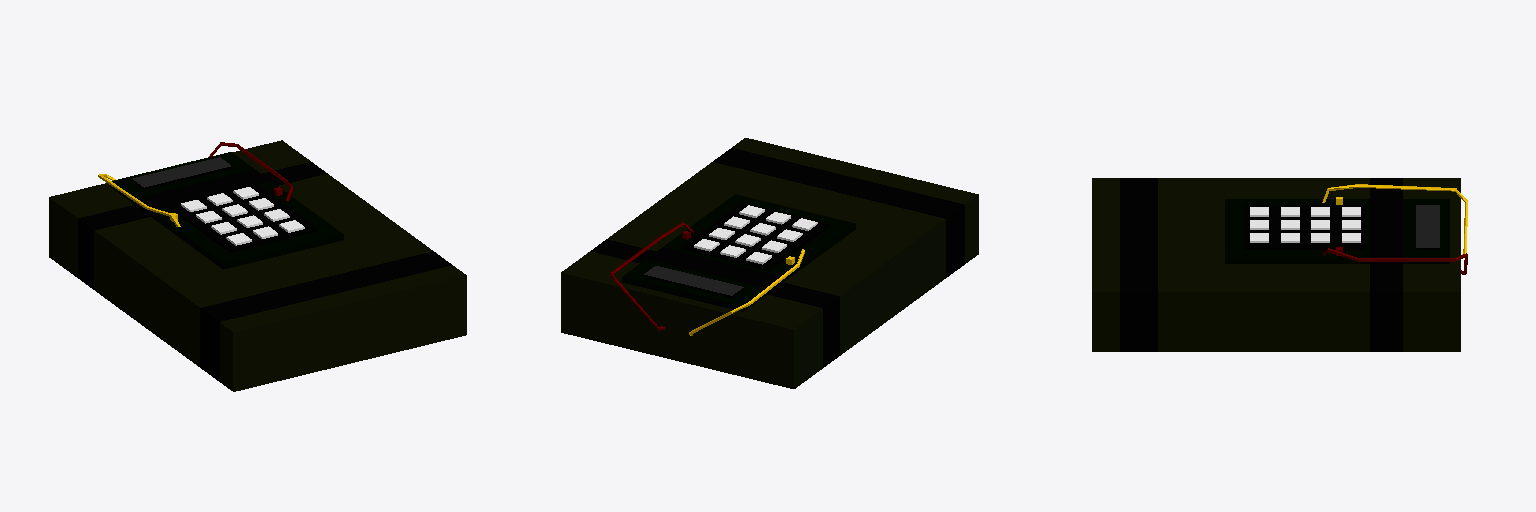
Rendered from C4_Explosive.obj.
The picture shows the model from 3 angles: view 1: azimuth 30°, elevation 25°; view 2: azimuth 150°, elevation 25°; view 3: azimuth 270°, elevation 25°; orthographic projection.
Parts seen in each view (by area): view 1: C4_Explosive_Cube.017; view 2: C4_Explosive_Cube.017; view 3: C4_Explosive_Cube.017.
Boxes of the visible parts, <box> form: C4_Explosive_Cube.017: <box>49,140,466,391</box>; C4_Explosive_Cube.017: <box>561,138,978,388</box>; C4_Explosive_Cube.017: <box>1092,178,1467,351</box>.
Bounding box in the file's own units: 0.204 × 0.0648 × 0.2851.